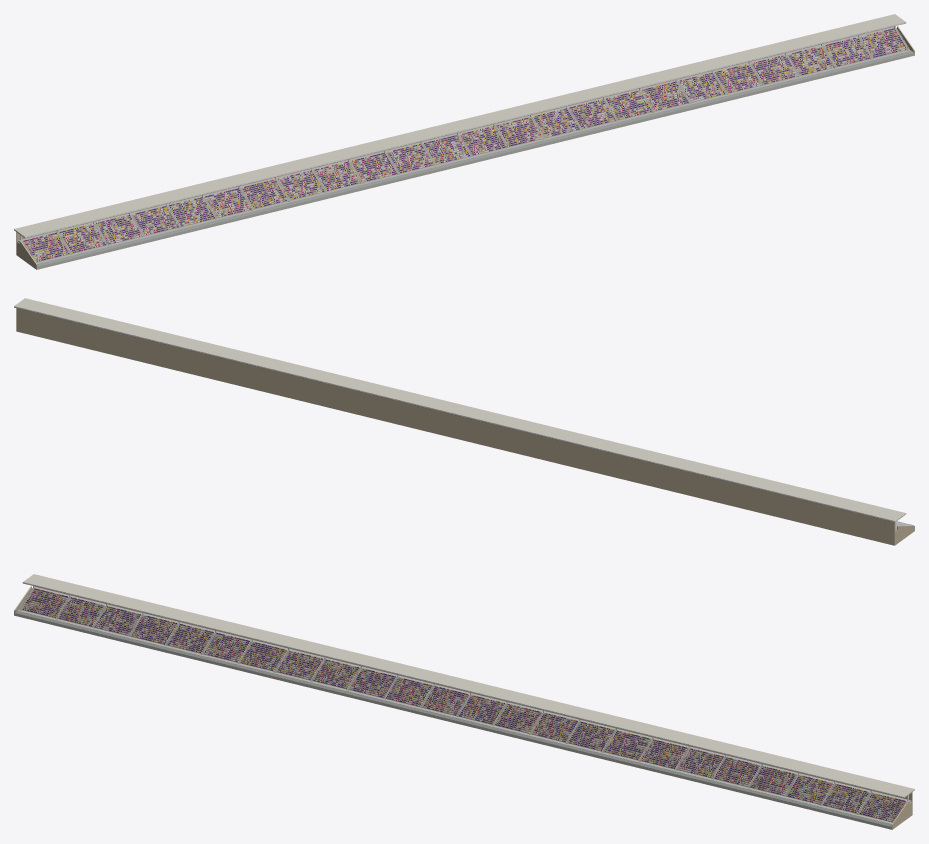
The model's file is lus_stand_c.glb.
The picture shows the model from 3 angles, top to bottom: view 1: azimuth 30°, elevation 25°; view 2: azimuth 150°, elevation 25°; view 3: azimuth 330°, elevation 25°; orthographic projection.
Visible parts, largest first — view 1: lusail-main-grandstand; view 2: lusail-main-grandstand; view 3: lusail-main-grandstand.
Part boxes in pixels (x1,y1,x2,y2): lusail-main-grandstand: (14,14,914,269); lusail-main-grandstand: (14,298,914,545); lusail-main-grandstand: (14,574,914,829).
Size of the model in its own units: 419 by 11.72 by 17.5.
